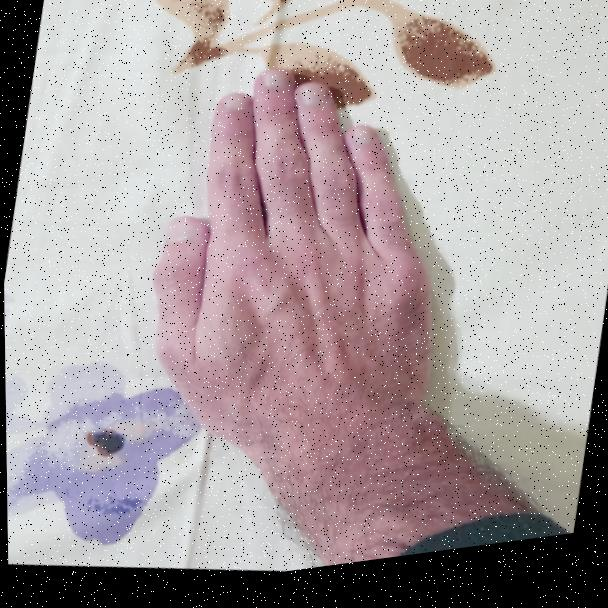five: (127, 37, 478, 501)
